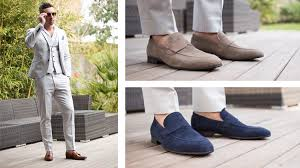shoe: (140, 26, 227, 74), (143, 105, 219, 158), (189, 108, 280, 144), (189, 24, 270, 63), (64, 149, 89, 163), (43, 149, 56, 165)
